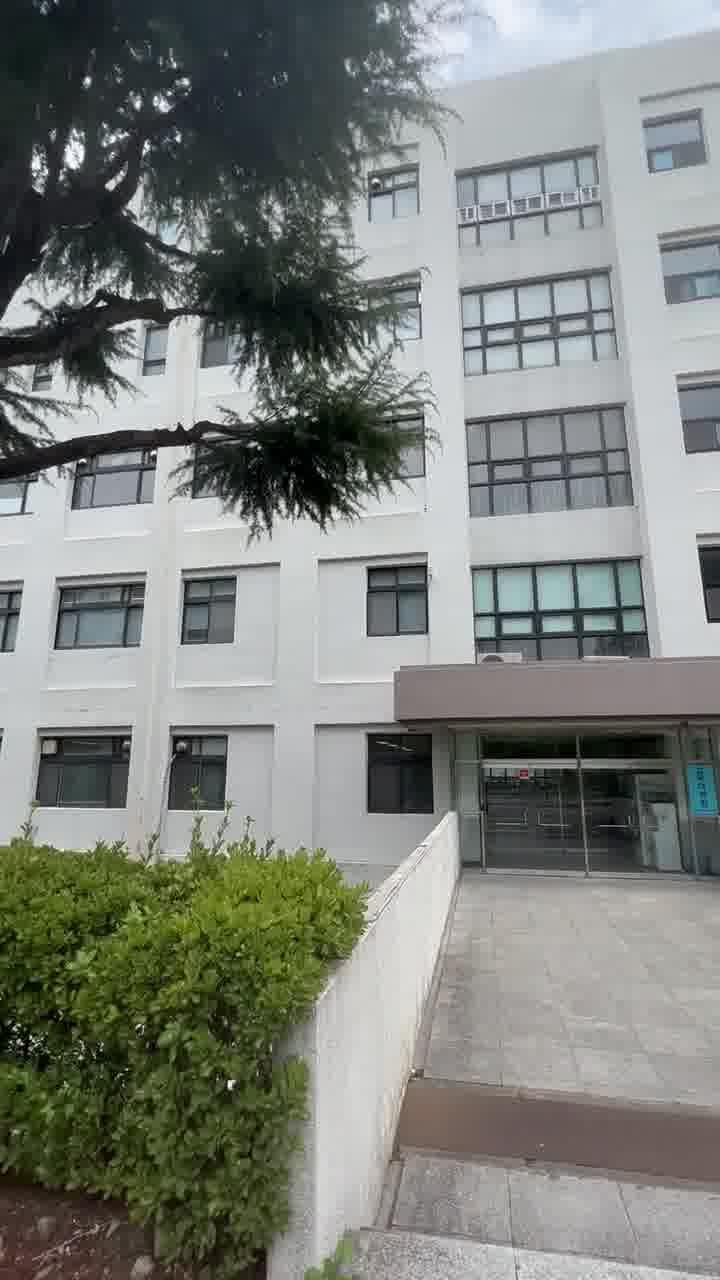building: (406, 142, 720, 940)
